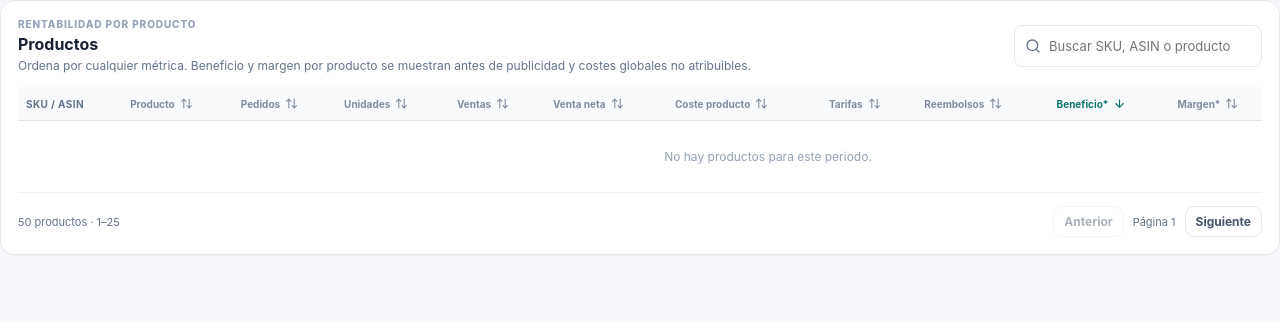
Amazon sends the three sort states to the server and returns from page two to page one
Step 1. Click the button "Siguiente" → (1223,222), box [1184,206,1262,237]
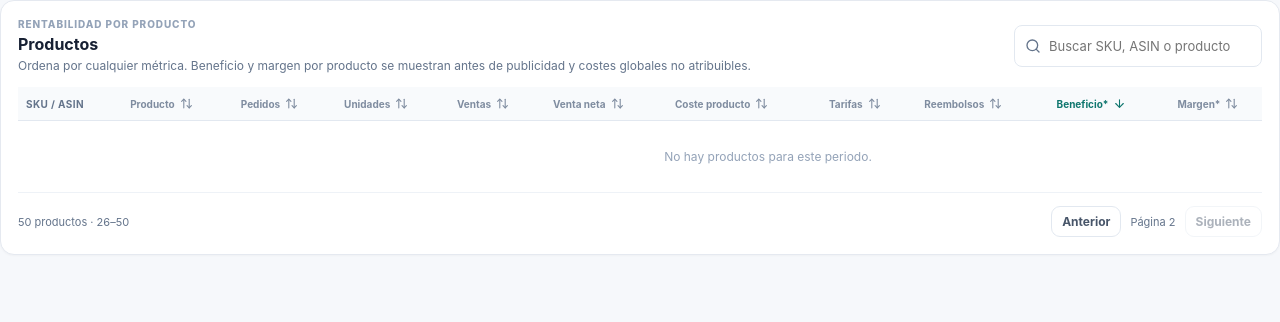
Step 2. Click the button "Ventas" → (497,104), box [457,97,537,110]
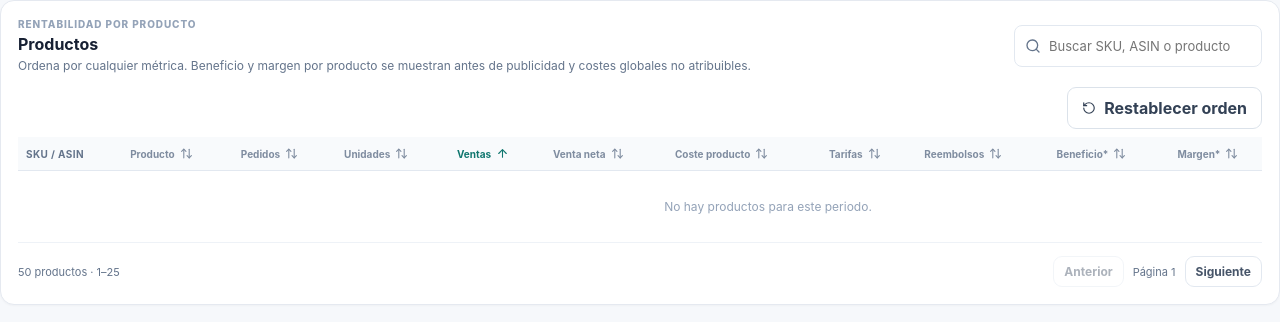
Step 3. Click the button "Ventas" → (497,154), box [457,147,537,160]
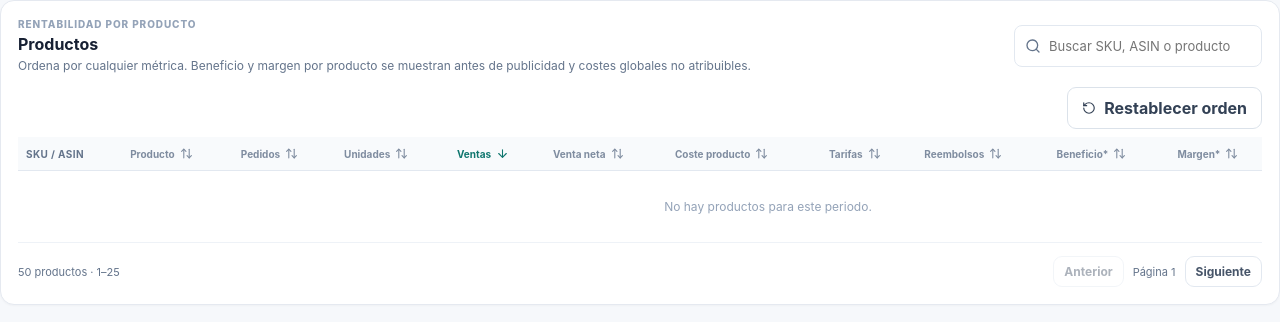
Step 4. Click the button "Ventas" → (497,154), box [457,147,537,160]
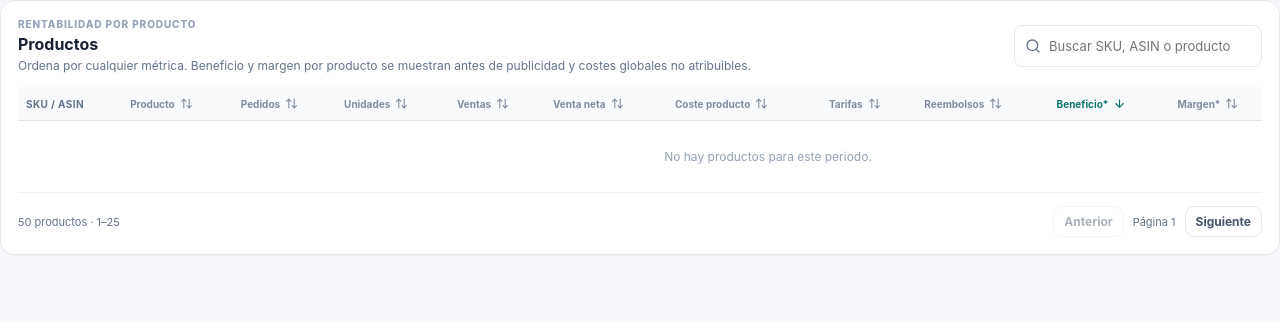
Result: the button "Restablecer orden" is gone
